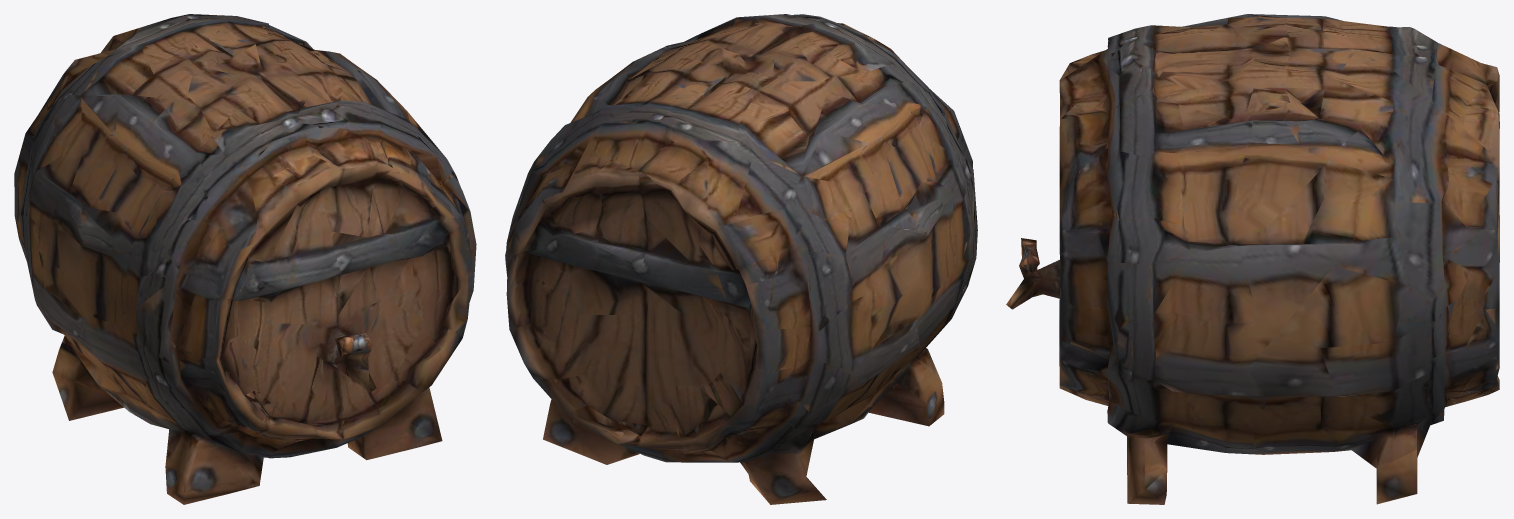
File: barrel.glb
3 views of the same model, side by side, from view 1: azimuth 30°, elevation 25°; view 2: azimuth 150°, elevation 25°; view 3: azimuth 270°, elevation 25° (orthographic). The views are drawn at different scales.
Visible parts, largest first — view 1: node_4; view 2: node_4; view 3: node_4.
Part boxes in pixels (x1,y1,x2,y2): node_4: [14, 14, 476, 504]; node_4: [505, 14, 977, 504]; node_4: [1006, 14, 1499, 504].
Bounding box in the file's own units: 1.75 × 1.81 × 2.
1 material, 1 textured.
